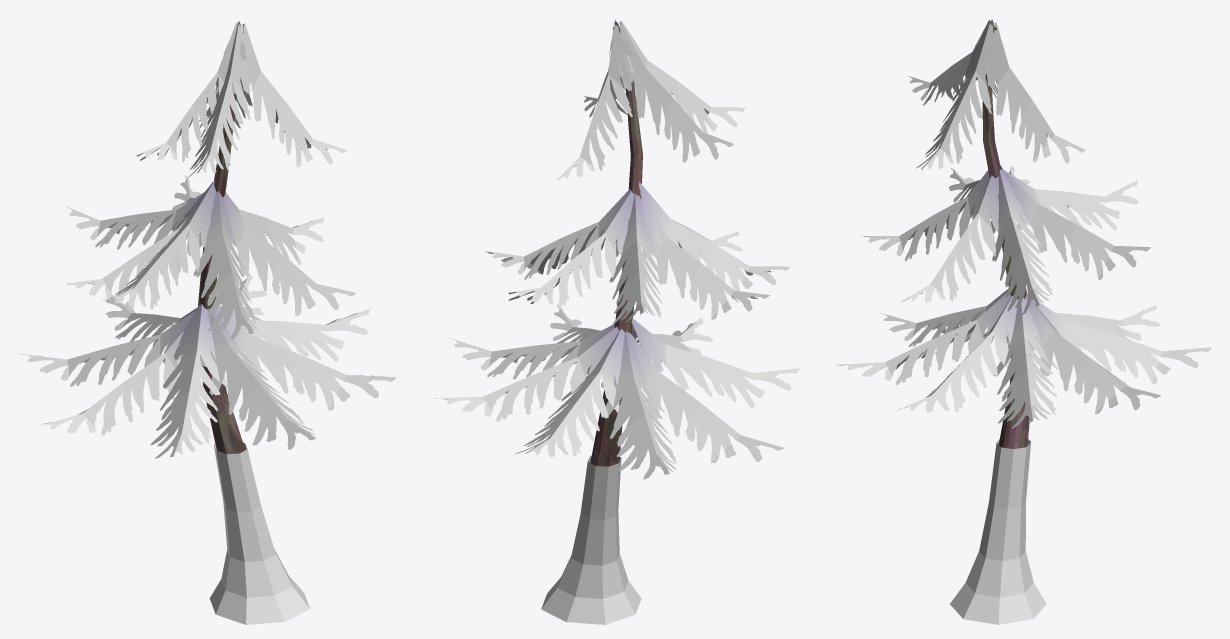
File: tree_02_garden.fbx
The picture shows the model from 3 angles, left to right: view 1: azimuth 30°, elevation 25°; view 2: azimuth 150°, elevation 25°; view 3: azimuth 270°, elevation 25°; orthographic projection. The views are drawn at different scales.
Visible parts, largest first — view 1: Plane.018, Plane.019, Cube.006, Plane.020, Cube.004; view 2: Plane.018, Plane.019, Cube.006, Plane.020, Cube.004; view 3: Plane.018, Plane.019, Cube.006, Plane.020, Cube.004.
Part boxes in pixels (left/top/right/bottom): Plane.018: left=19, top=273, right=396, bottom=458; Plane.019: left=65, top=175, right=355, bottom=339; Cube.006: left=209, top=442, right=309, bottom=624; Plane.020: left=136, top=21, right=346, bottom=177; Cube.004: left=197, top=93, right=245, bottom=454; Plane.018: left=435, top=305, right=799, bottom=479; Plane.019: left=485, top=182, right=789, bottom=324; Cube.006: left=541, top=456, right=641, bottom=624; Plane.020: left=557, top=20, right=745, bottom=179; Cube.004: left=590, top=27, right=642, bottom=466; Plane.018: left=836, top=288, right=1211, bottom=428; Plane.019: left=861, top=165, right=1150, bottom=314; Cube.006: left=950, top=439, right=1046, bottom=624; Plane.020: left=908, top=19, right=1085, bottom=169; Cube.004: left=982, top=26, right=1030, bottom=448.
Bounding box in the file's own units: 1110 × 1849 × 1110.
